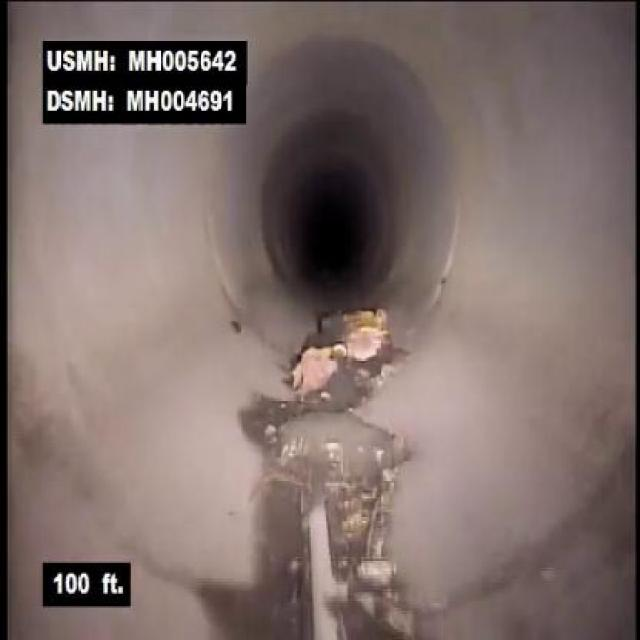Debris: (289, 287, 411, 418)
